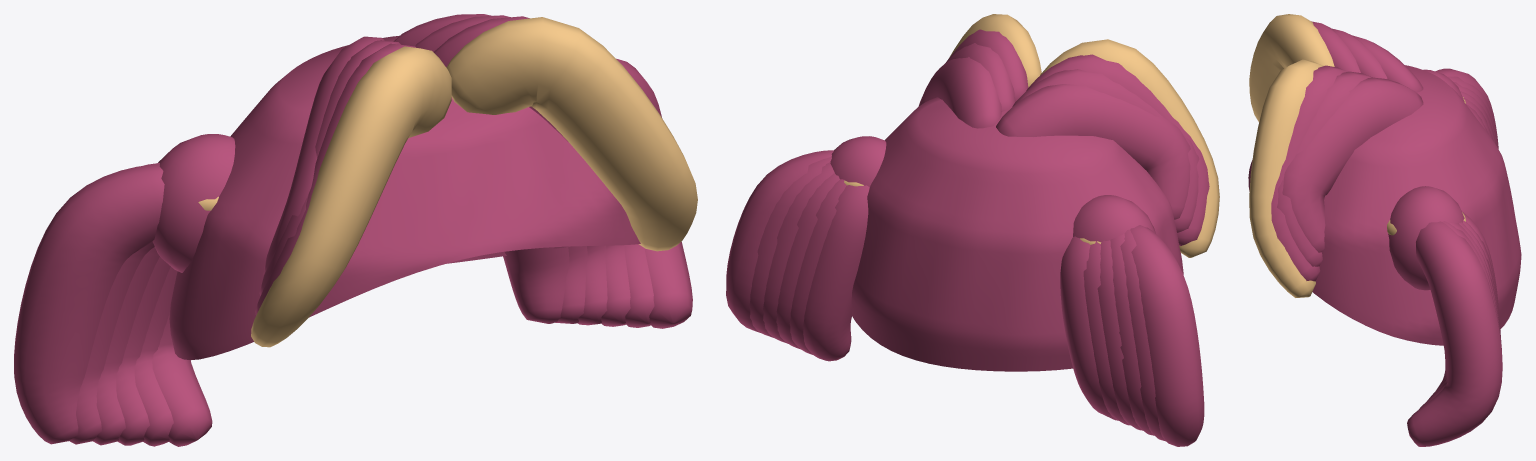
The model's file is studio_twin_pigtails_short.glb.
3 renders of one model, left to right at view 1: azimuth 30°, elevation 25°; view 2: azimuth 150°, elevation 25°; view 3: azimuth 270°, elevation 25°, orthographic. The views are drawn at different scales.
Visible parts, largest first — view 1: twin_pigtails; view 2: twin_pigtails; view 3: twin_pigtails.
Boxes of the visible parts, bbox=[...] form: twin_pigtails: bbox=[14, 14, 697, 446]; twin_pigtails: bbox=[726, 14, 1219, 446]; twin_pigtails: bbox=[1248, 14, 1521, 446].
Bounding box in the file's own units: 0.7387 × 0.46 × 0.3744.
